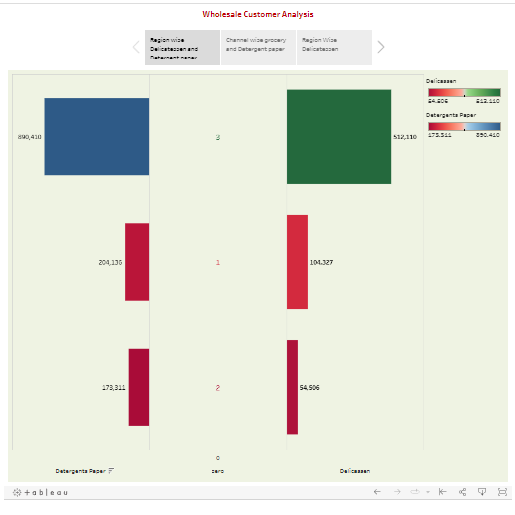

What the dashboard file says about the page in this screenshot:
{"tool":"tableau","page":{"name":"Dashboard 2","canvas":[1000,800],"ordinal":1},"visuals":[{"type":"title","box":[8,8,984,41]},{"type":"worksheet","title":"rwdeli & deter","mark":"Automatic","rows":["Region (copy)_1689131345984946176"],"cols":["Detergents_Paper","Calculation_1452129415632297984","Delicassen"],"box":[8,49,492,371.5]},{"type":"worksheet","title":"cwgrocery and deter","mark":"Automatic","rows":["Channel (copy)_1689131345987100674"],"cols":["Grocery","Detergents_Paper"],"box":[500,49,492,371.5]},{"type":"worksheet","title":"Rw Delicassen","mark":"Shape","rows":["Region (copy)_1689131345984946176"],"cols":["Delicassen","Delicassen"],"box":[8,420.5,984,371.5]}]}

Visuals, with their boxes on the page's 1000x800 design canvas (x1, y1, x2, y2). These are canvas units, not pixel positions in the 515x515 screenshot, which may show the page scaled, cropped or inside an application window:
title: bbox=[8, 8, 992, 49]
"rwdeli & deter" worksheet: bbox=[8, 49, 500, 420]
"cwgrocery and deter" worksheet: bbox=[500, 49, 992, 420]
"Rw Delicassen" worksheet (Shape marks): bbox=[8, 420, 992, 792]
